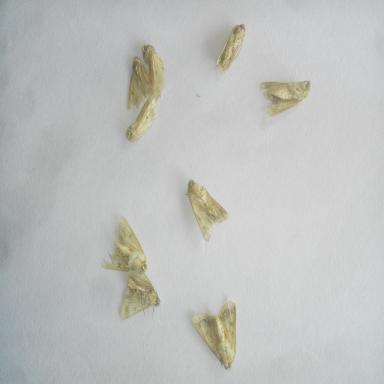abw: (190, 296, 241, 374), (117, 256, 165, 327), (99, 211, 150, 277), (182, 176, 231, 244), (256, 74, 314, 120), (125, 52, 163, 114), (122, 93, 164, 147), (213, 20, 248, 78), (139, 39, 170, 99)
